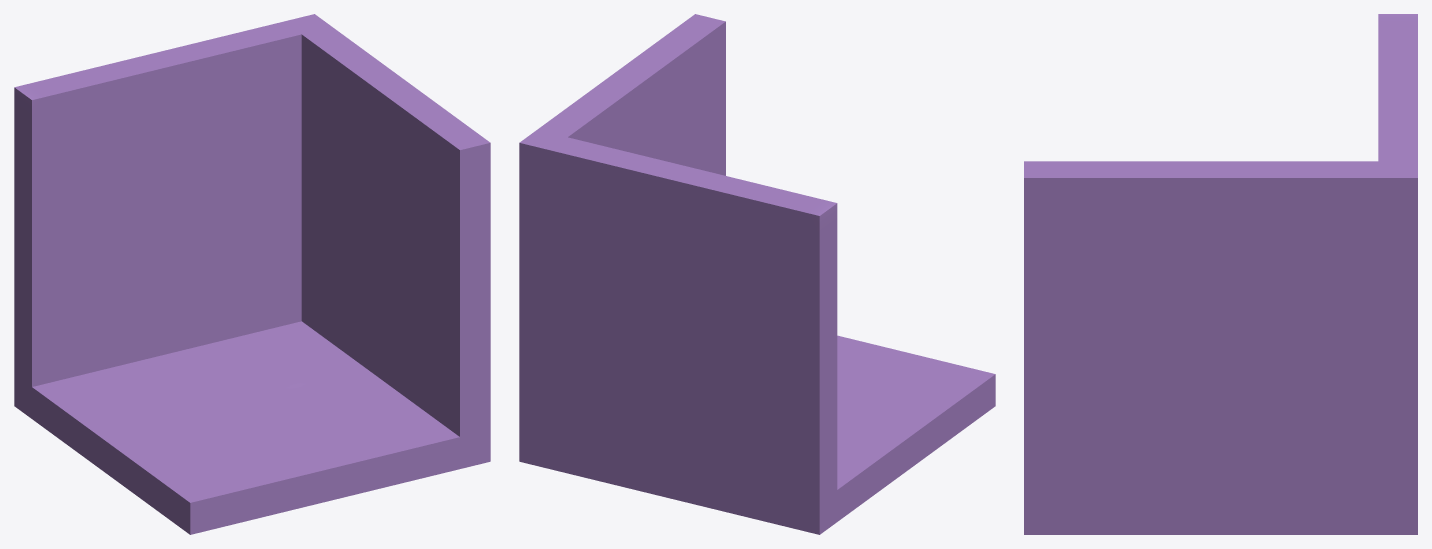
File: Room_WorkRoom.glb
3 renders of one model, left to right at view 1: azimuth 30°, elevation 25°; view 2: azimuth 150°, elevation 25°; view 3: azimuth 270°, elevation 25°, orthographic. The views are drawn at different scales.
Visible parts, largest first — view 1: ROOM.001; view 2: ROOM.001; view 3: ROOM.001.
Boxes of the visible parts, <box> form: ROOM.001: <box>14,14,490,534</box>; ROOM.001: <box>519,14,995,534</box>; ROOM.001: <box>1024,14,1417,534</box>.
Bounding box in the file's own units: 3.51 × 3.56 × 3.56.
1 material, 1 textured.
